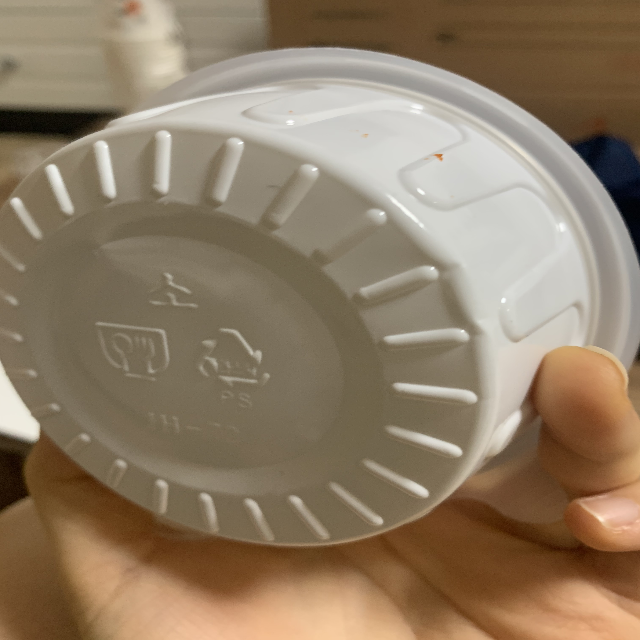ps: (195, 323, 273, 412)
